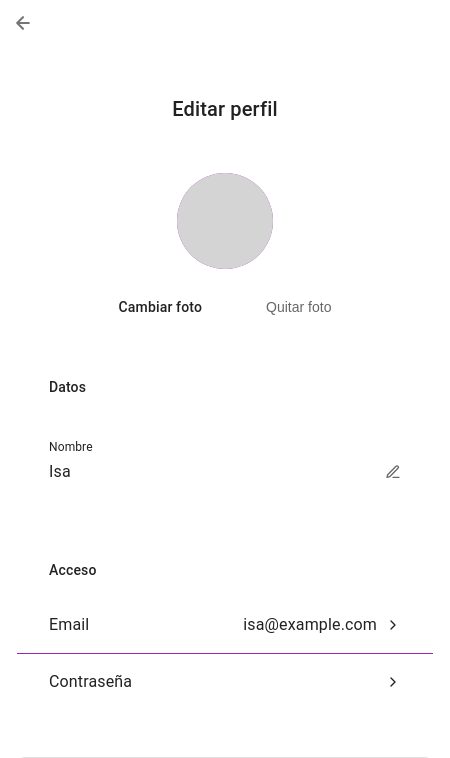
Test case: Given the photo of the edit profile screen › When the user removes the photo › Then it is deleted with the CSRF token and the option disappears
This screenshot has width=450, height=758.
Click the button "Quitar foto" at (299, 307), box x1=242 y1=285 x2=356 y2=329
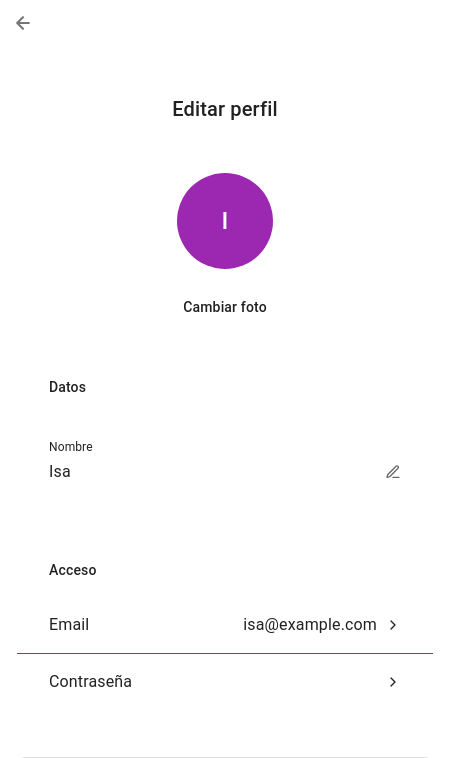
Expected: the button labelled "Cambiar foto" is shown, x1=183 y1=298 x2=267 y2=314
Now the button "Quitar foto" is gone
